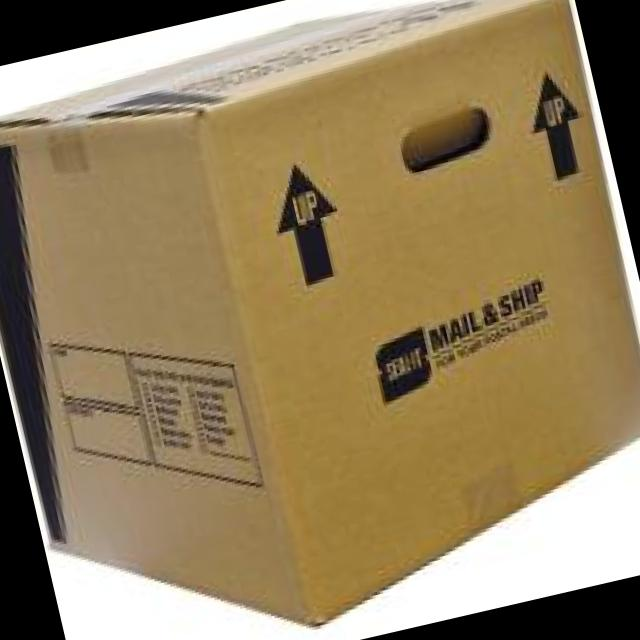box: (0, 0, 640, 626)
